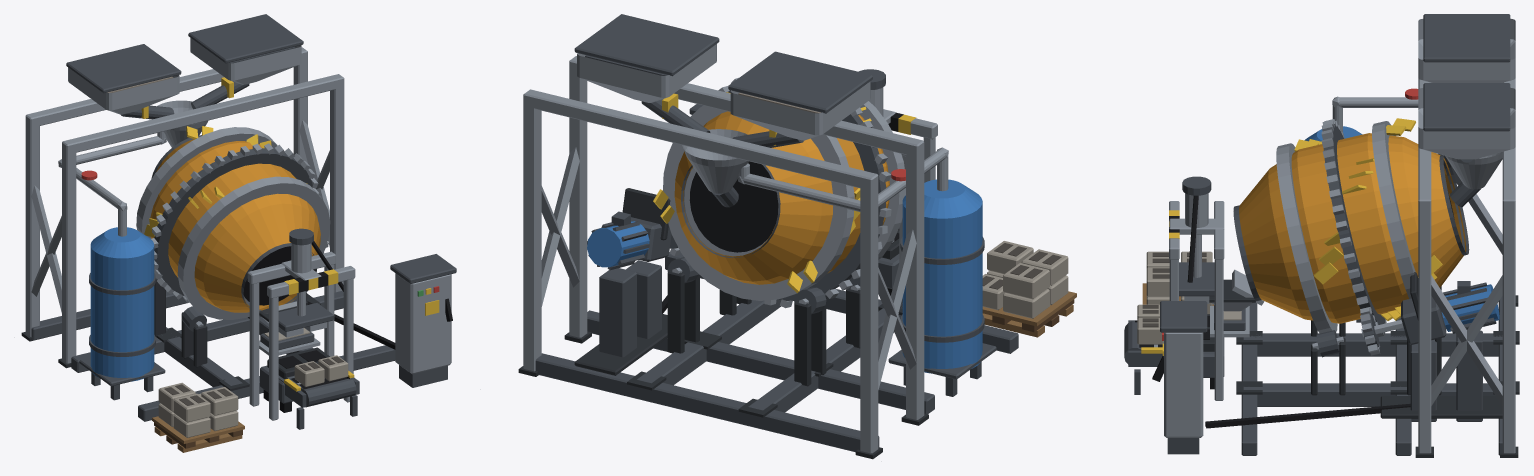
Rendered from betonniere_t2.glb.
3 views of the same model, side by side, from view 1: azimuth 30°, elevation 25°; view 2: azimuth 150°, elevation 25°; view 3: azimuth 270°, elevation 25° (orthographic). The views are drawn at different scales.
Visible parts, largest first — view 1: pieces_acier.015, tambour_corps.002, pieces_acier_sombre.015, reservoir.002, armoire.008, tambour_bandage_0.003, tremie_bord_0.002, tremie_bord_-0.002, tambour_couronne.002, pieces_beton.006, pieces_fonte.015, tambour_bandage_1.004 (+14 smaller); view 2: pieces_acier.015, pieces_acier_sombre.015, pieces_fonte.015, tambour_corps.002, reservoir.002, tambour_bandage_1.004, tremie_bord_-0.002, tremie_bord_0.002, tambour_entree_fond.004, pieces_beton.006, tremie_-0.002, tremie_0.002 (+10 smaller); view 3: tambour_corps.002, pieces_acier.015, pieces_acier_sombre.015, pieces_fonte.015, tremie_bord_0.002, tremie_bord_-0.002, armoire.008, tambour_bandage_0.003, tremie_0.002, tambour_bandage_1.004, tremie_-0.002, pieces_noir.015 (+14 smaller).
Part boxes in pixels (x1,y1,x2,y2): pieces_acier.015: [25, 47, 355, 420]; tambour_corps.002: [150, 139, 320, 312]; pieces_acier_sombre.015: [31, 81, 447, 429]; reservoir.002: [90, 246, 154, 381]; armoire.008: [395, 273, 451, 374]; tambour_bandage_0.003: [177, 176, 330, 319]; tremie_bord_0.002: [188, 14, 303, 63]; tremie_bord_-0.002: [66, 44, 181, 93]; tambour_couronne.002: [154, 148, 313, 295]; pieces_beton.006: [158, 382, 238, 437]; pieces_fonte.015: [21, 278, 329, 390]; tambour_bandage_1.004: [136, 127, 277, 238]; pieces_acier.015: [523, 56, 948, 453]; pieces_acier_sombre.015: [535, 69, 1018, 452]; pieces_fonte.015: [518, 188, 928, 459]; tambour_corps.002: [674, 111, 889, 284]; reservoir.002: [902, 201, 982, 373]; tambour_bandage_1.004: [663, 105, 854, 300]; tremie_bord_-0.002: [728, 51, 872, 113]; tremie_bord_0.002: [574, 14, 719, 76]; tambour_entree_fond.004: [689, 161, 778, 252]; pieces_beton.006: [982, 241, 1068, 318]; tremie_-0.002: [730, 81, 870, 140]; tremie_0.002: [577, 44, 716, 102]; tambour_corps.002: [1239, 133, 1466, 323]; pieces_acier.015: [1154, 78, 1515, 453]; pieces_acier_sombre.015: [1124, 159, 1502, 455]; pieces_fonte.015: [1203, 272, 1519, 457]; tremie_bord_0.002: [1423, 83, 1510, 131]; tremie_bord_-0.002: [1423, 14, 1510, 62]; armoire.008: [1164, 332, 1203, 437]; tambour_bandage_0.003: [1276, 143, 1337, 333]; tremie_0.002: [1418, 87, 1515, 159]; tambour_bandage_1.004: [1372, 121, 1415, 298]; tremie_-0.002: [1418, 18, 1515, 82]; pieces_noir.015: [1135, 195, 1410, 428].
Bounding box in the file's own units: 1.5 × 1.29 × 1.5.
